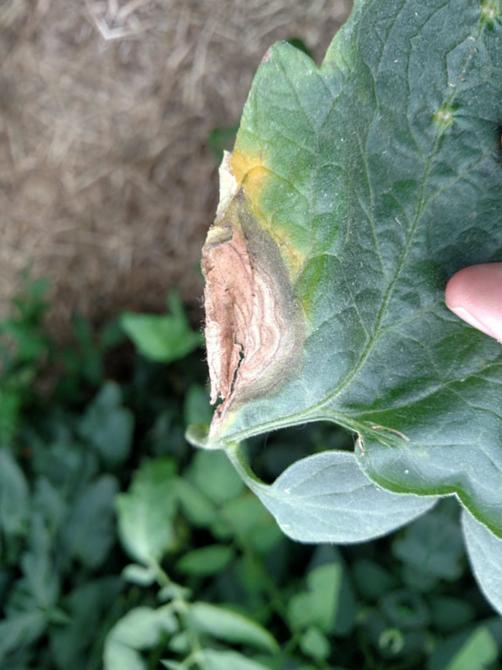Tomato mold leaf: (83, 0, 502, 597)
